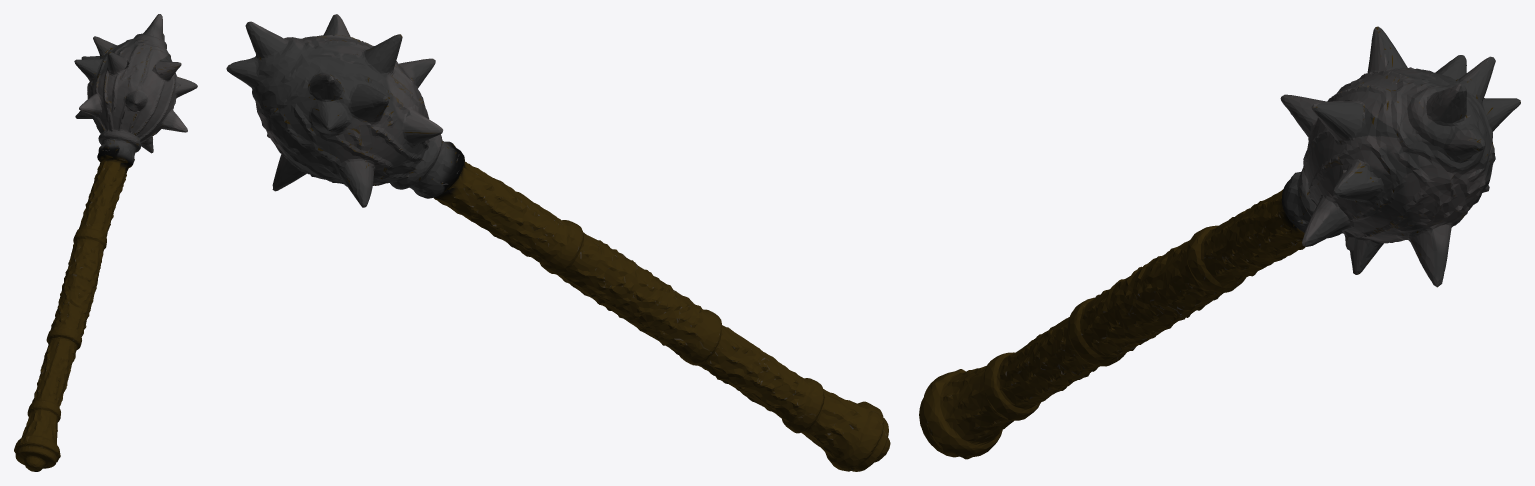
File: maca.glb
3 views of the same model, side by side, from view 1: azimuth 30°, elevation 25°; view 2: azimuth 150°, elevation 25°; view 3: azimuth 270°, elevation 25° (orthographic). The views are drawn at different scales.
Visible parts, largest first — view 1: tmp60jyc23t.ply; view 2: tmp60jyc23t.ply; view 3: tmp60jyc23t.ply.
Part boxes in pixels (x1,y1,x2,y2): tmp60jyc23t.ply: (14, 14, 197, 471); tmp60jyc23t.ply: (226, 14, 890, 471); tmp60jyc23t.ply: (919, 26, 1520, 459).
Bounding box in the file's own units: 1.86 × 1.96 × 1.76.
1 material, 1 textured.
